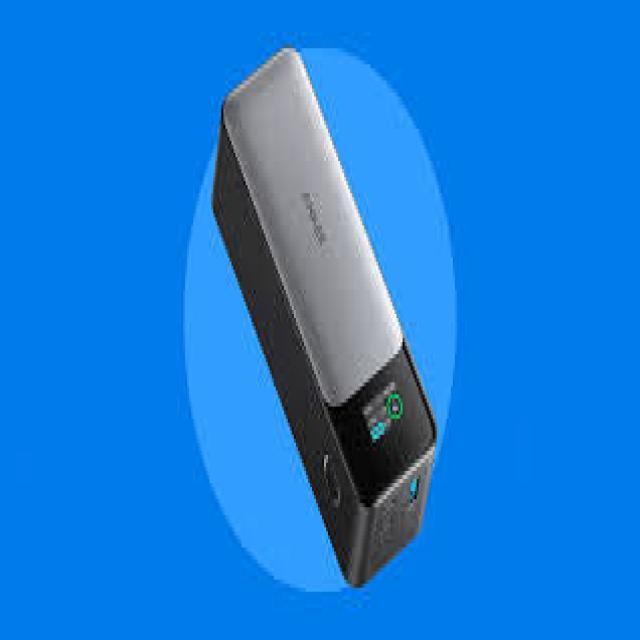power_bank: (215, 40, 447, 604)
